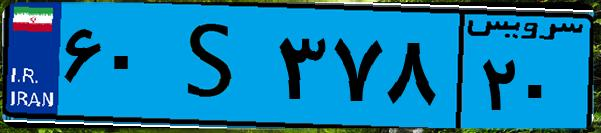0: (525, 38, 570, 115), (110, 28, 158, 98)
2: (475, 38, 525, 113)
3: (270, 28, 330, 110)
6: (57, 26, 110, 100)
7: (330, 28, 385, 110)
8: (385, 28, 445, 110)
S: (158, 12, 270, 120)
